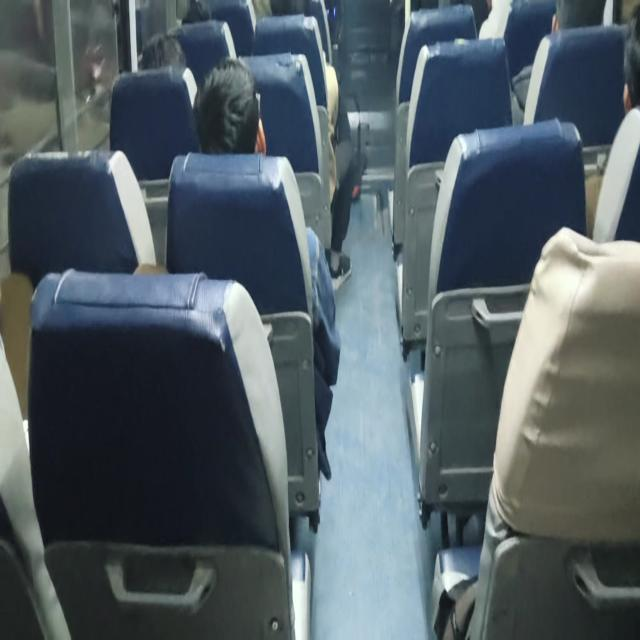person: (203, 65, 276, 169), (542, 0, 632, 43), (613, 19, 640, 122), (136, 25, 182, 84), (172, 0, 222, 30)
